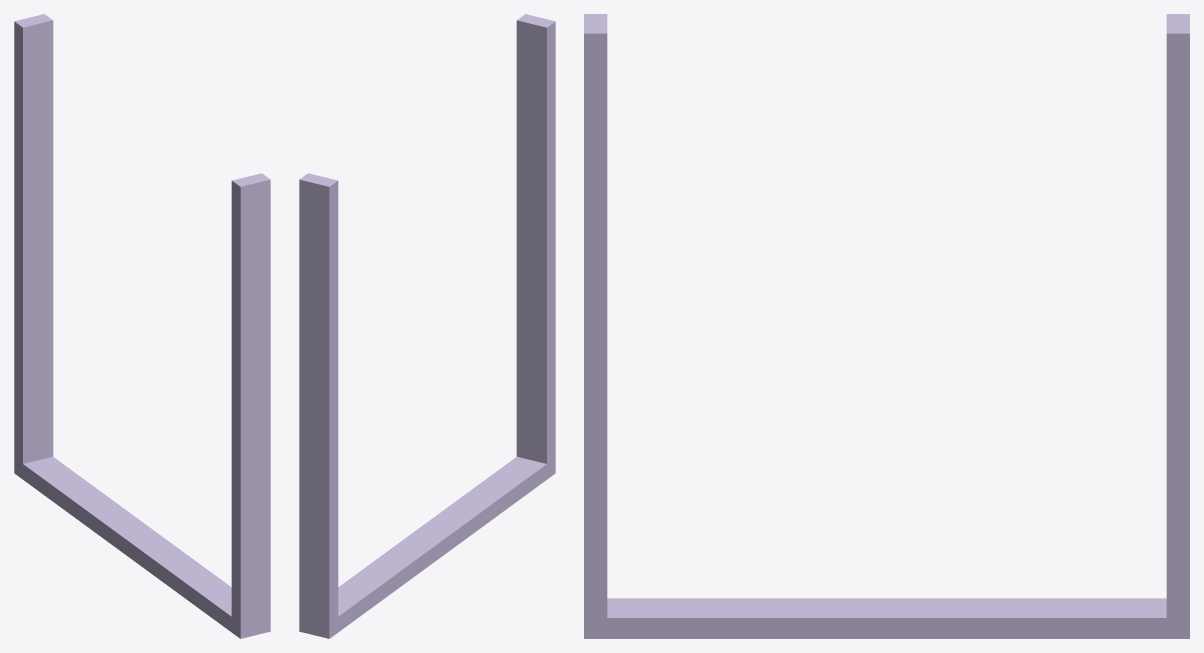
File: ElevatorLower.dae
The picture shows the model from 3 angles, left to right: view 1: azimuth 30°, elevation 25°; view 2: azimuth 150°, elevation 25°; view 3: azimuth 270°, elevation 25°; orthographic projection. The views are drawn at different scales.
Visible parts, largest first — view 1: LowerStage; view 2: LowerStage; view 3: LowerStage.
Part boxes in pixels (<box>): LowerStage: <box>14,14,270,638</box>; LowerStage: <box>299,14,555,638</box>; LowerStage: <box>584,14,1189,638</box>.
Bounding box in the file's own units: 0.0508 × 0.6604 × 0.7281.
